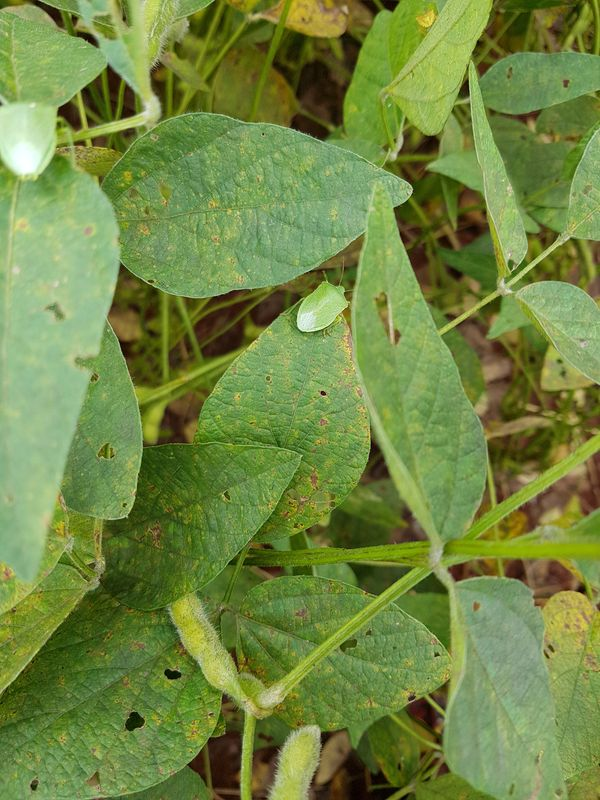Euschistus_heros_ninfa: (410, 5, 441, 35)
Nezara_viridula_adulto: (1, 89, 77, 195), (288, 266, 360, 342)
